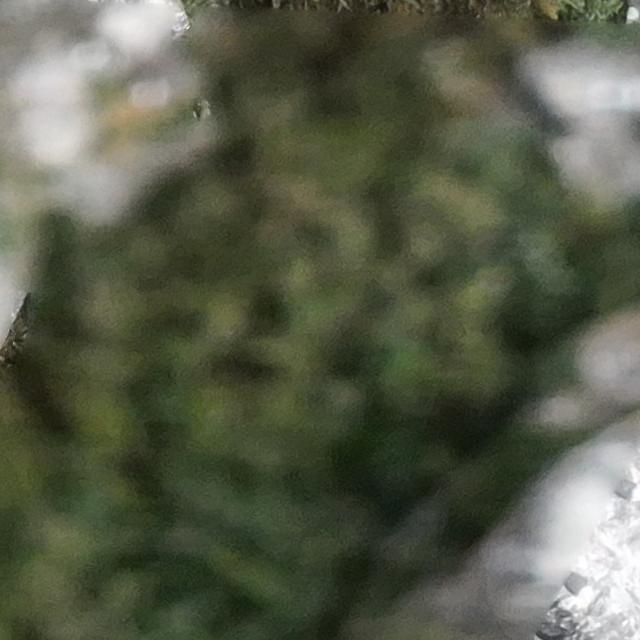umineko: (564, 567, 596, 601), (611, 476, 639, 501)
